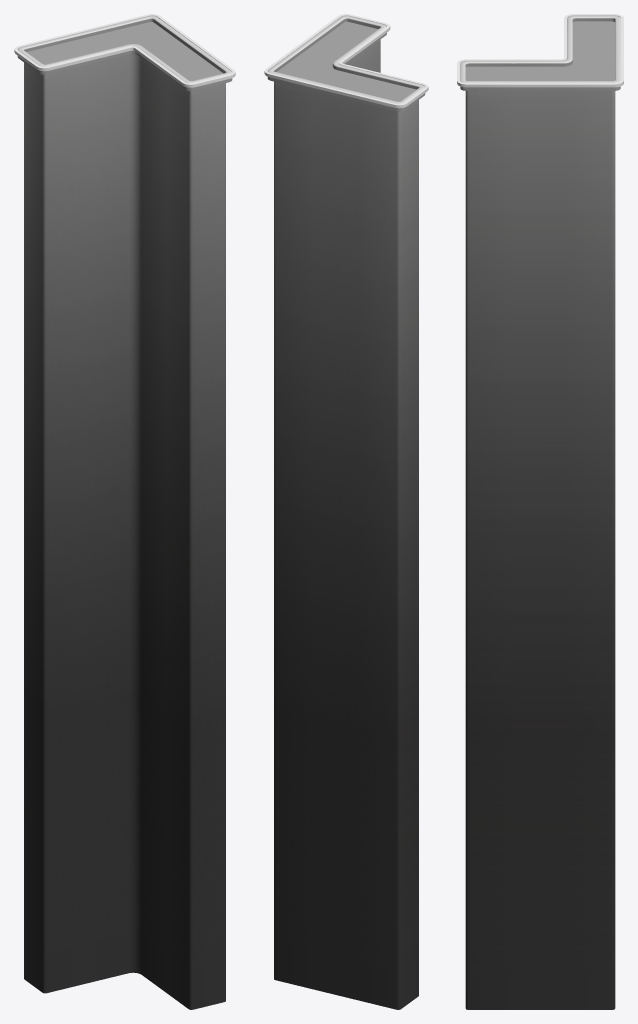
The model's file is BLOCK_3D_V2.fbx.
3 renders of one model, left to right at view 1: azimuth 30°, elevation 25°; view 2: azimuth 150°, elevation 25°; view 3: azimuth 270°, elevation 25°, orthographic. The views are drawn at different scales.
Parts seen in each view (by area): view 1: L_5_003, L_5_003.001, OUTLINE; view 2: L_5_003, L_5_003.001, OUTLINE; view 3: L_5_003, L_5_003.001, OUTLINE.
Boxes of the visible parts, <box> form: L_5_003: <box>17,15,232,1009</box>; L_5_003.001: <box>24,22,225,95</box>; OUTLINE: <box>14,14,235,87</box>; L_5_003: <box>267,15,425,1009</box>; L_5_003.001: <box>274,21,418,115</box>; OUTLINE: <box>264,14,428,108</box>; L_5_003: <box>460,15,620,1009</box>; L_5_003.001: <box>465,21,615,95</box>; OUTLINE: <box>457,14,623,87</box>.
Bounding box in the file's own units: 312 × 1916 × 312.
